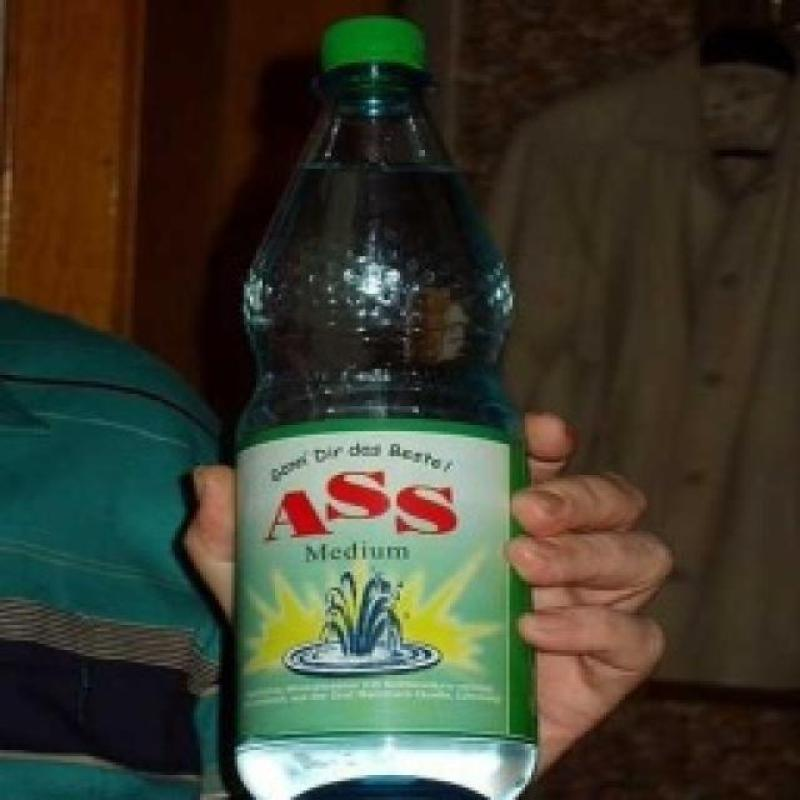botella: (228, 12, 538, 800)
